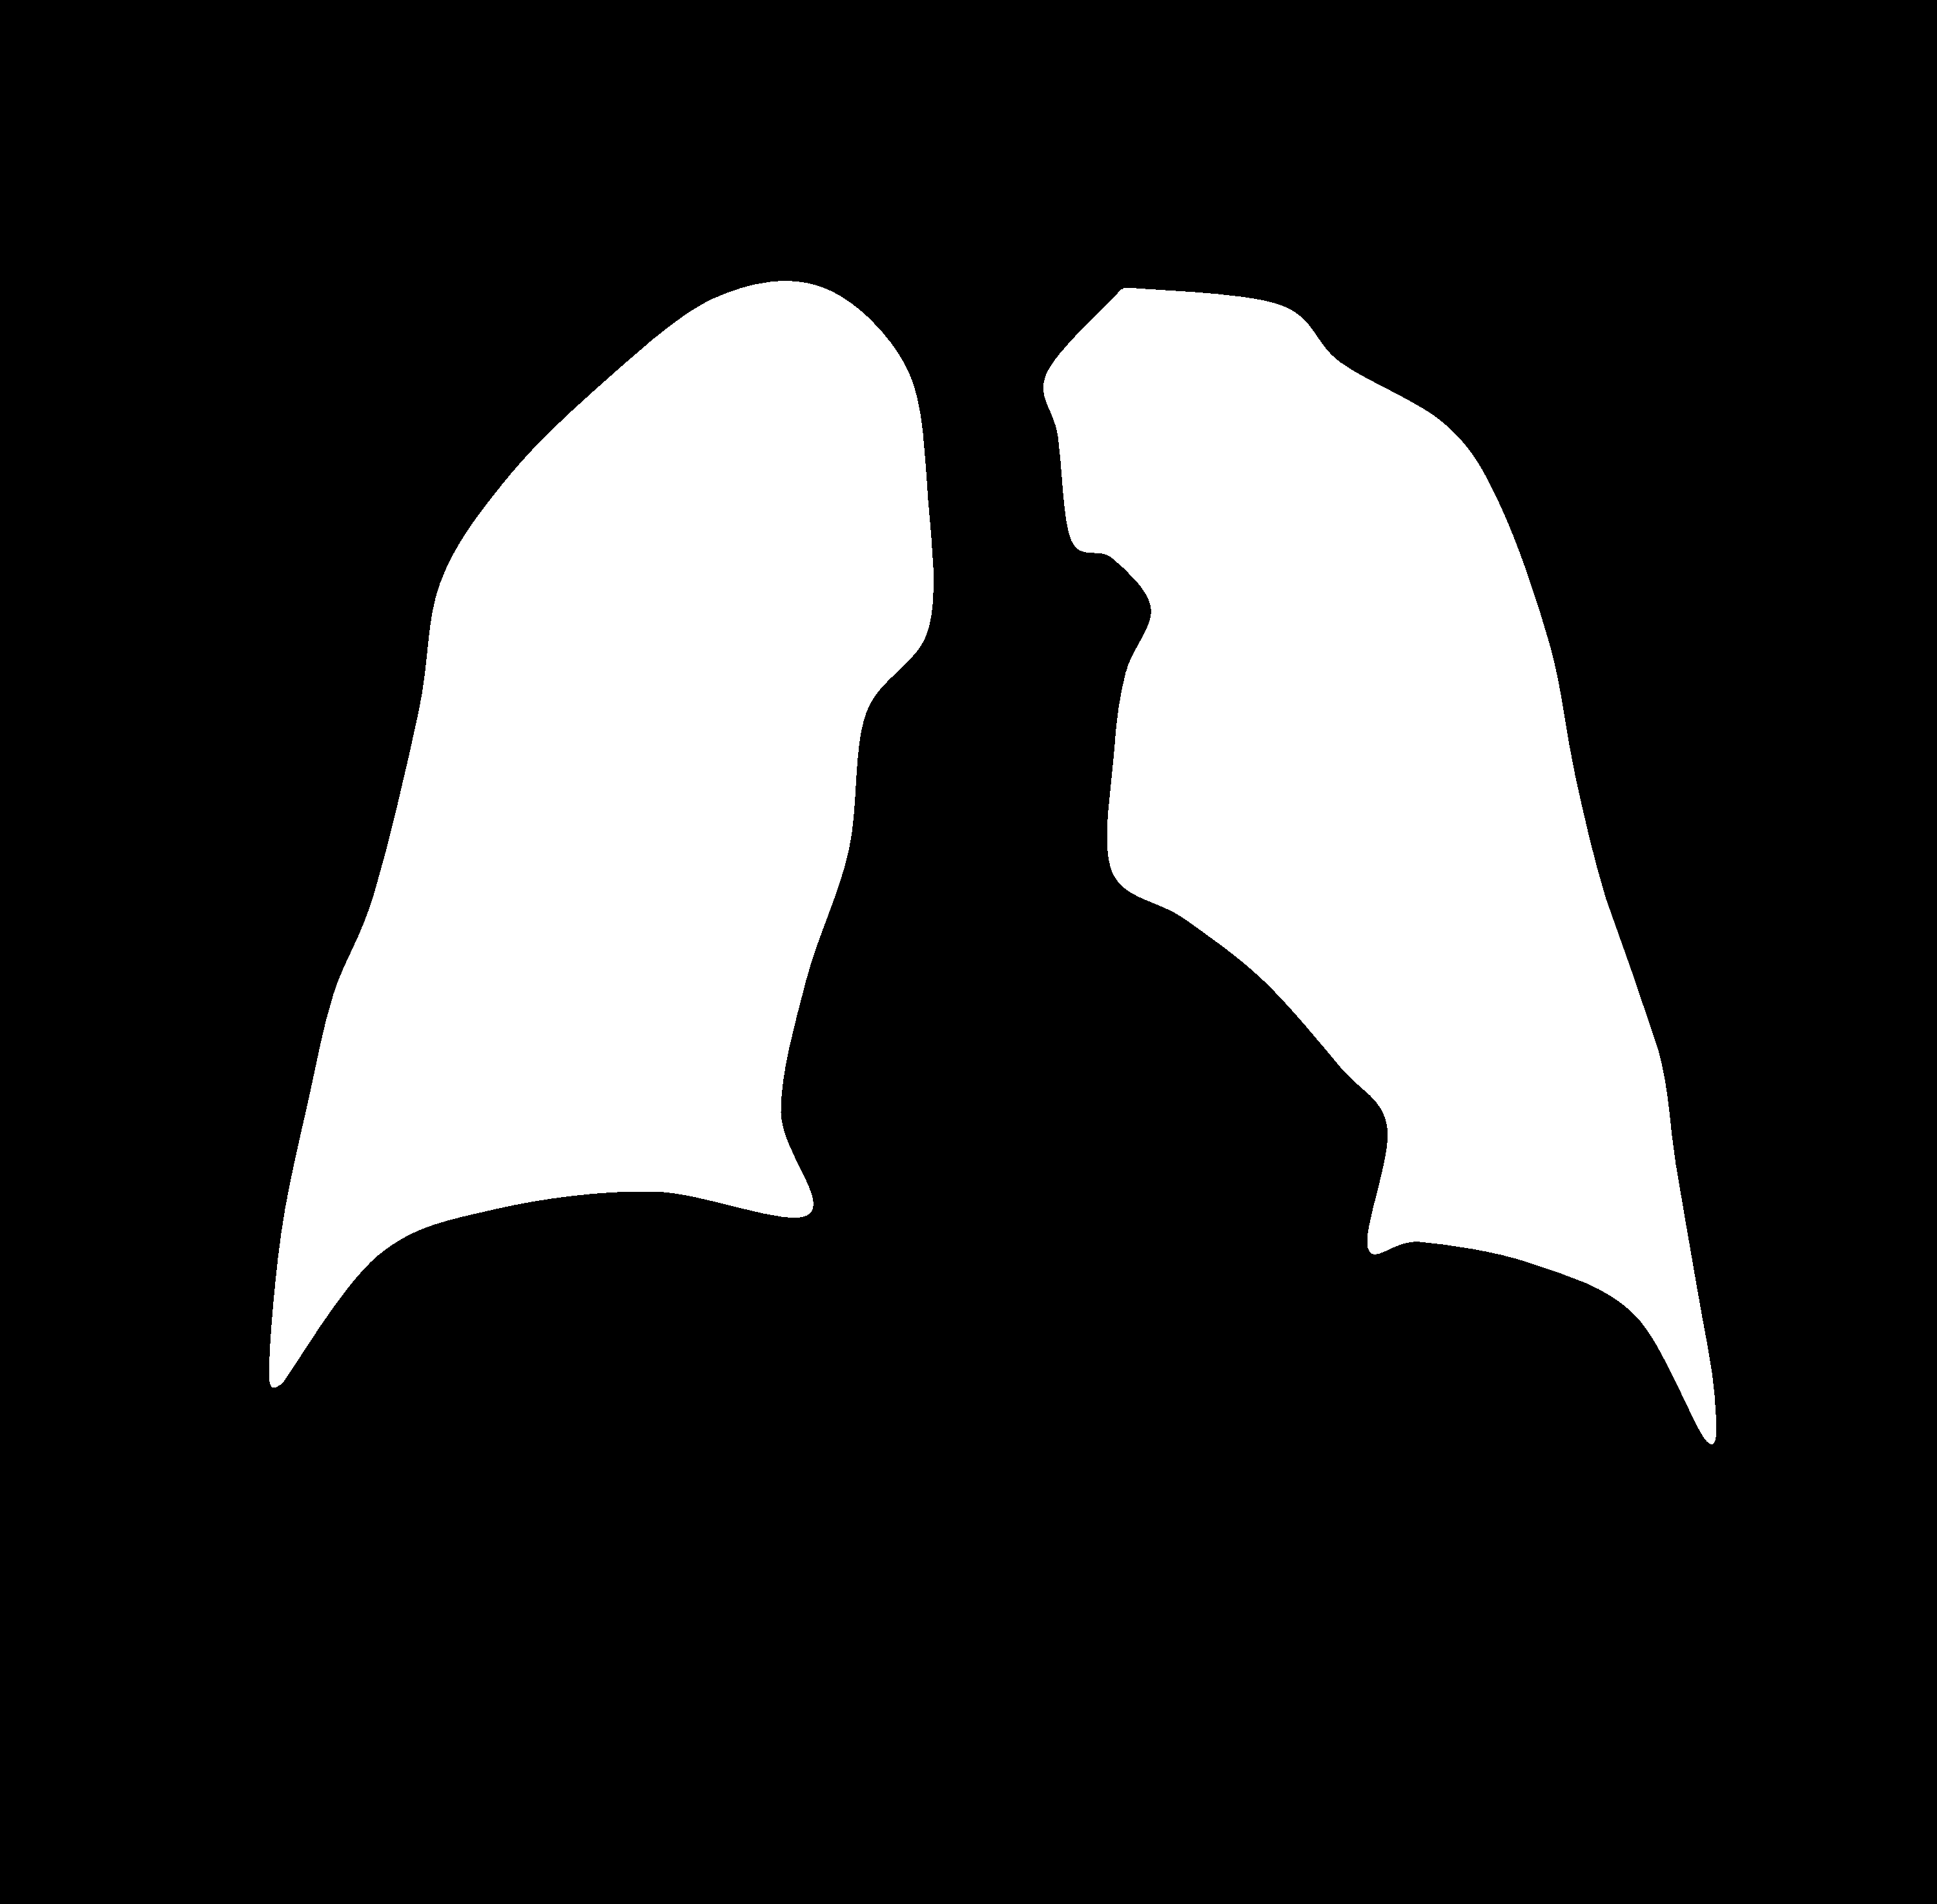heart: (786, 945, 1421, 1297)
left_lung: (268, 281, 933, 1386)
right_lung: (1043, 288, 1716, 1444)
